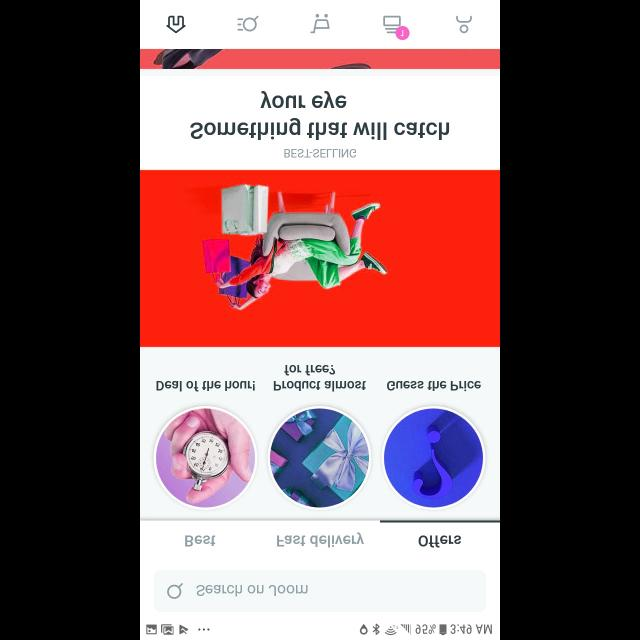icon: (382, 15, 410, 40), (310, 14, 330, 34), (237, 15, 259, 32), (166, 15, 186, 33), (456, 16, 472, 34), (167, 583, 183, 599)
image: (140, 170, 500, 346), (154, 406, 258, 510), (268, 405, 372, 509), (382, 406, 486, 510), (140, 49, 500, 69)
input: (154, 570, 486, 612)
text: (190, 91, 450, 141), (274, 364, 366, 392), (278, 532, 364, 548), (196, 584, 308, 596), (157, 381, 256, 392), (387, 381, 481, 392), (284, 149, 356, 159), (418, 534, 462, 548), (184, 534, 216, 546)
uppertaskbar: (140, 622, 500, 640)
